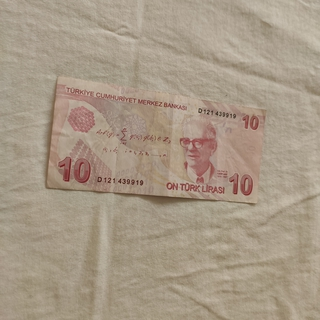10TLBack: (44, 74, 267, 204)
